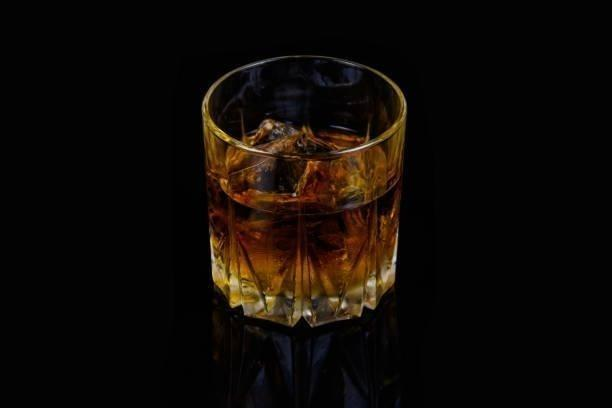glass-normal: (199, 53, 409, 328)
